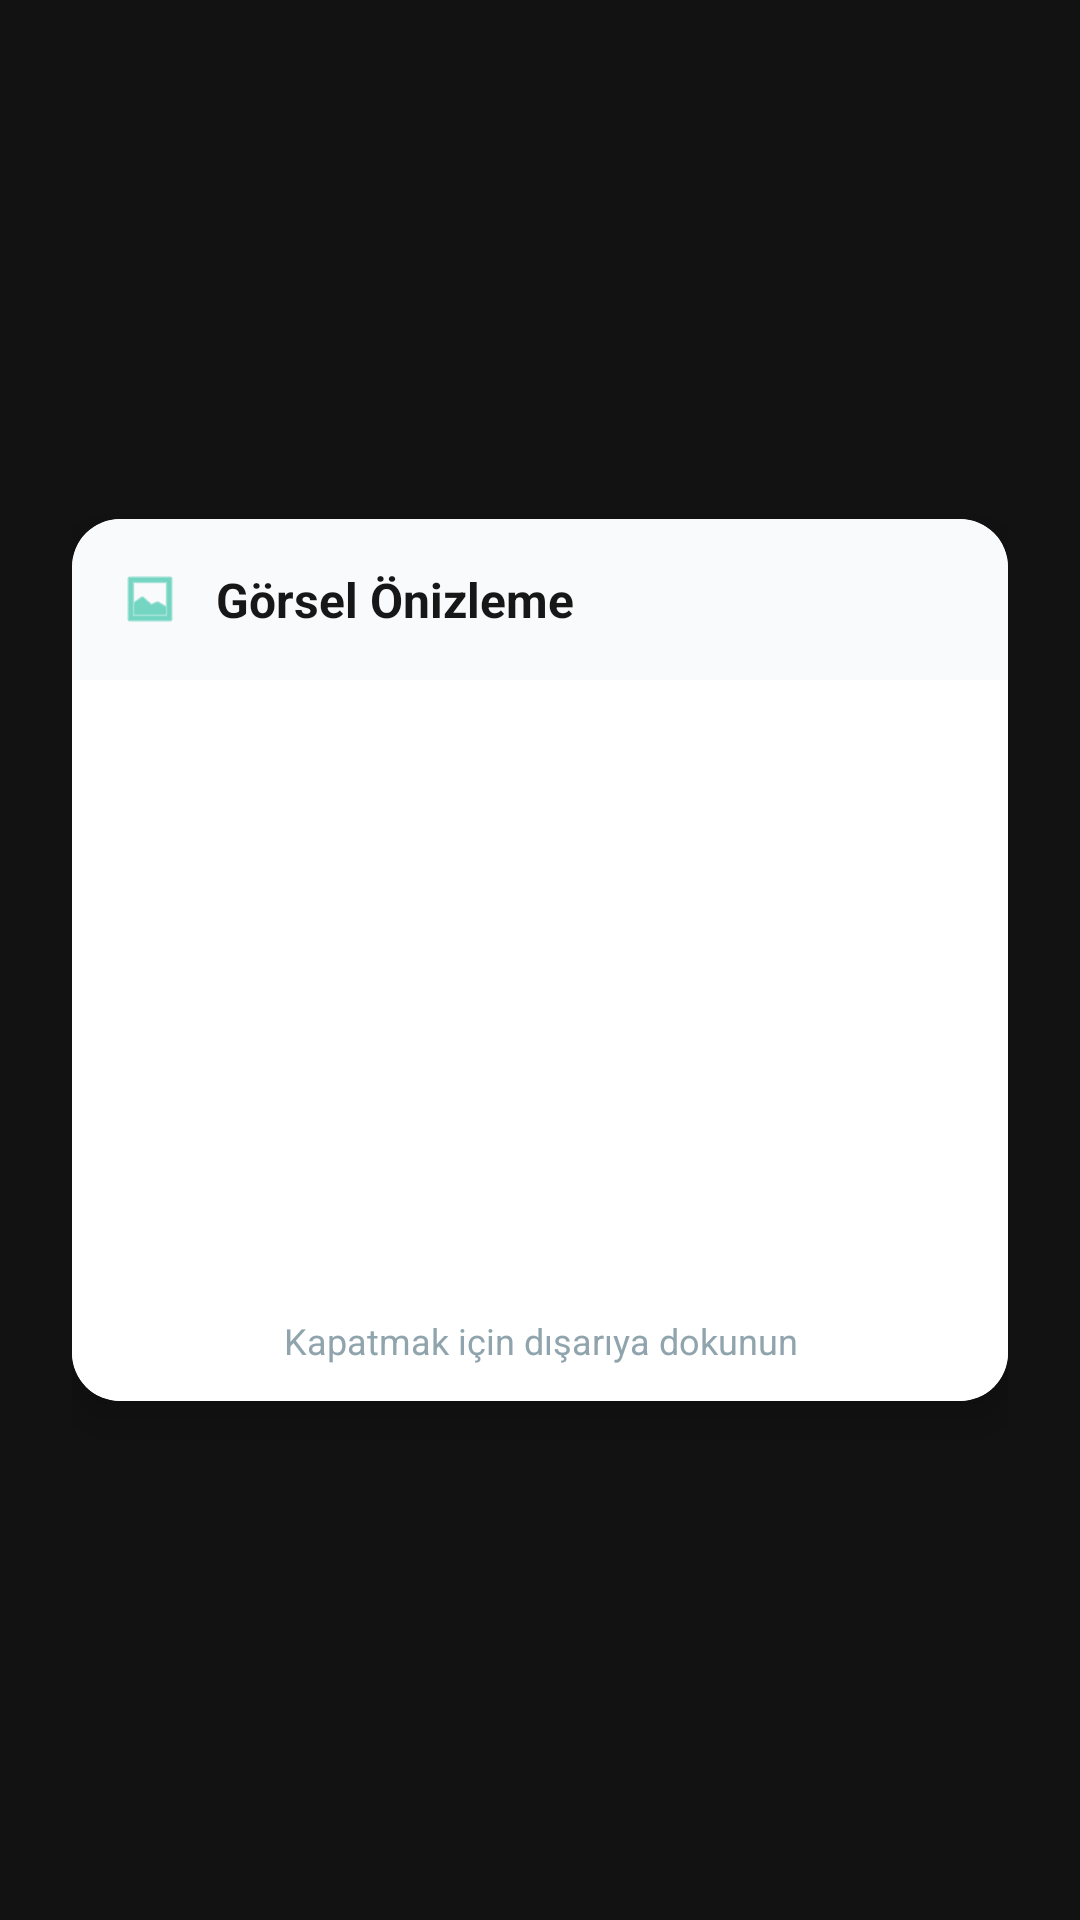

Icons on this 1080w x 1920h Android screen, each with the point to tap as [x,y]:
gallery: [150,599]
